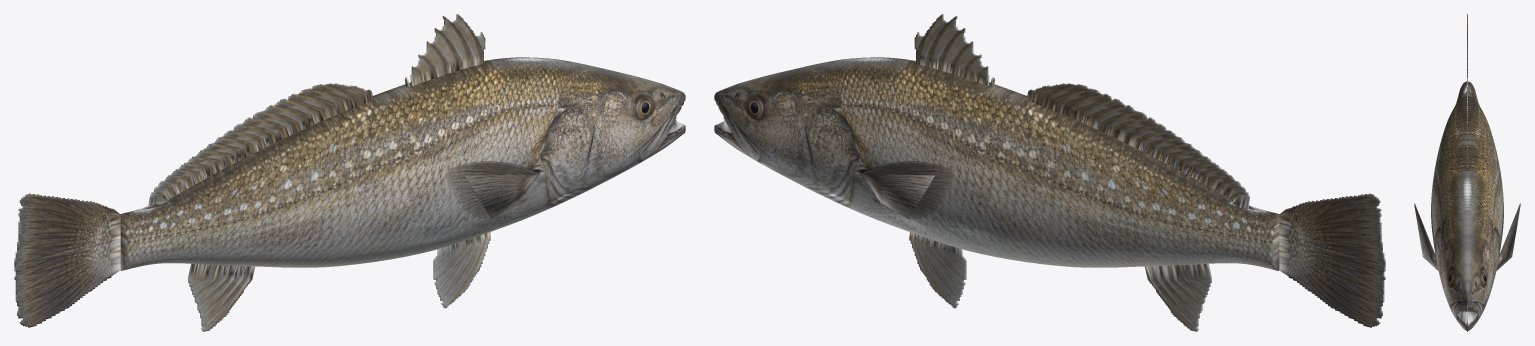
Rendered from dusky_kob.glb.
The picture shows the model from 3 angles, left to right: view 1: azimuth 30°, elevation 25°; view 2: azimuth 150°, elevation 25°; view 3: azimuth 270°, elevation 25°; orthographic projection. The views are drawn at different scales.
Parts seen in each view (by area): view 1: dusky_kob_realistic; view 2: dusky_kob_realistic; view 3: dusky_kob_realistic.
Boxes of the visible parts, x1=… form: dusky_kob_realistic: x1=14, y1=14, x2=685, y2=331; dusky_kob_realistic: x1=714, y1=14, x2=1385, y2=331; dusky_kob_realistic: x1=1414, y1=14, x2=1520, y2=331.
Bounding box in the file's own units: 1 × 0.4164 × 0.1828.
Materials: 3 (3 with a texture image).
